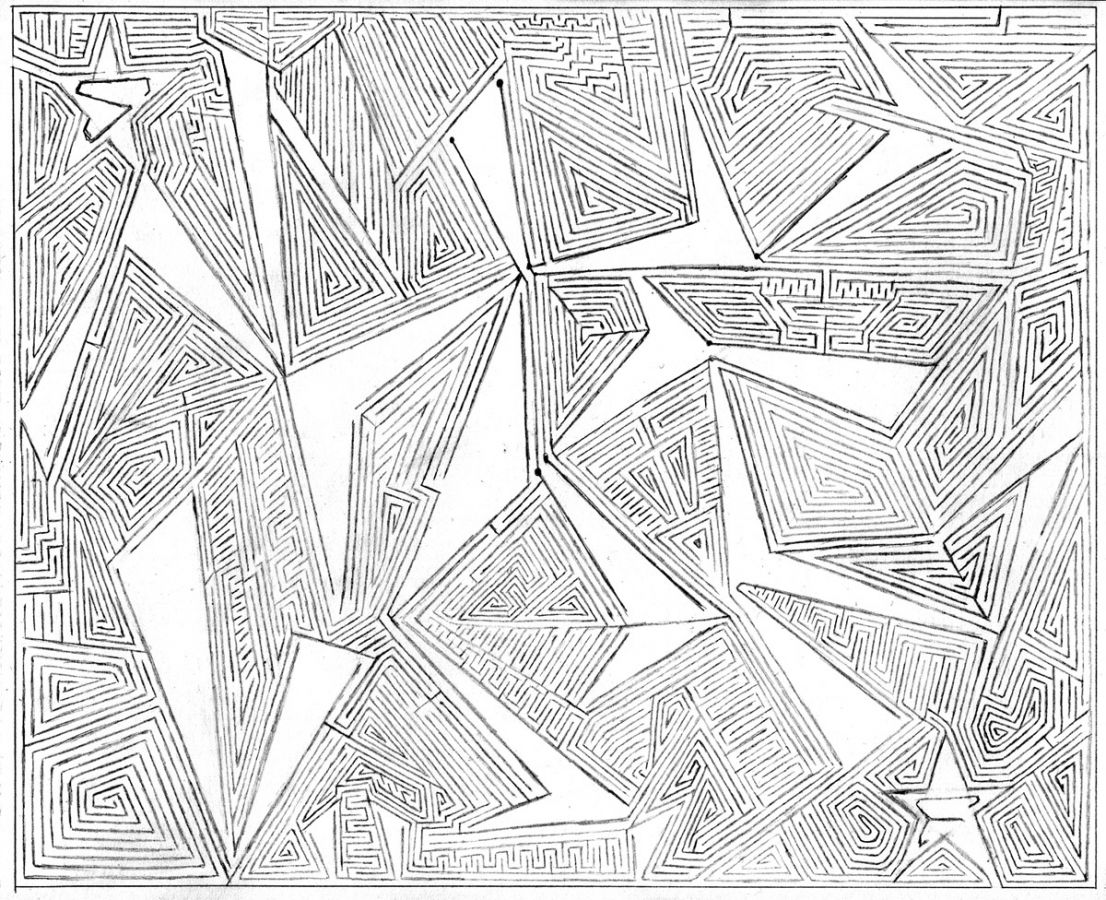maze: (13, 12, 1097, 888)
